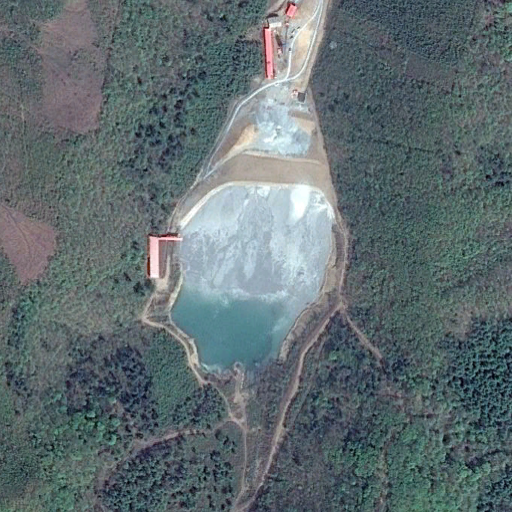tp: (169, 152, 340, 380)
